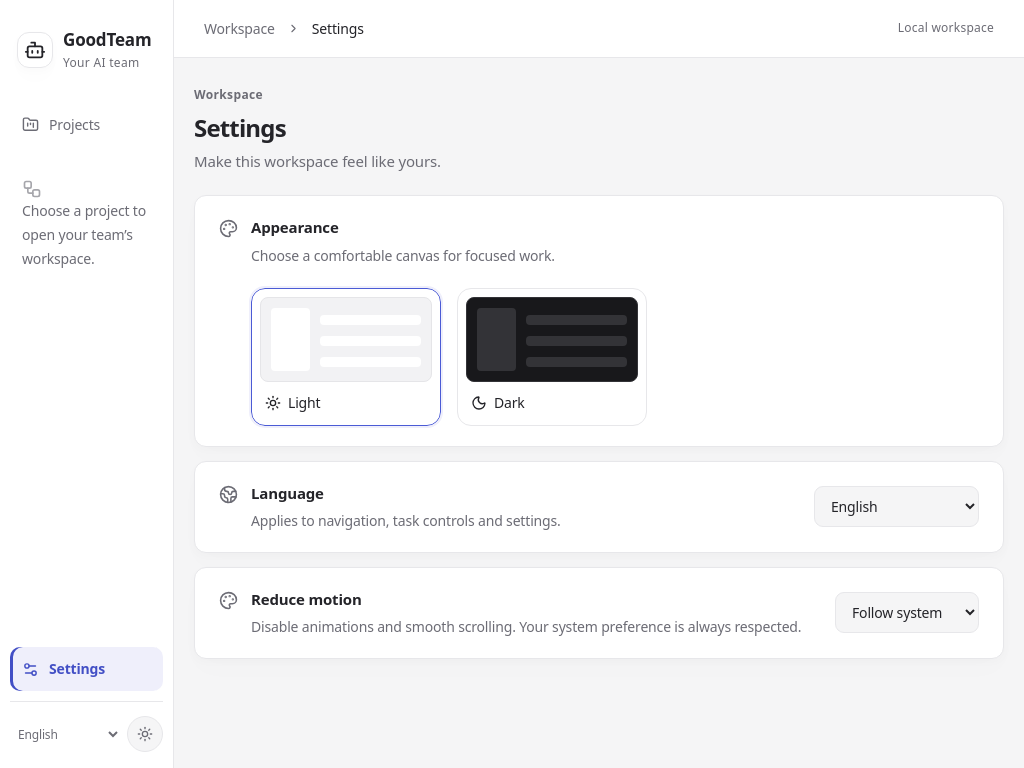
Test case: settings is a real destination and shares appearance and language preferences with the shell
This screenshot has width=1024, height=768.
Expected: the heading "Settings" is shown, [194,111,286,144]
Step 1. Click the button "Dark" → (552, 357), box [457,288,647,426]
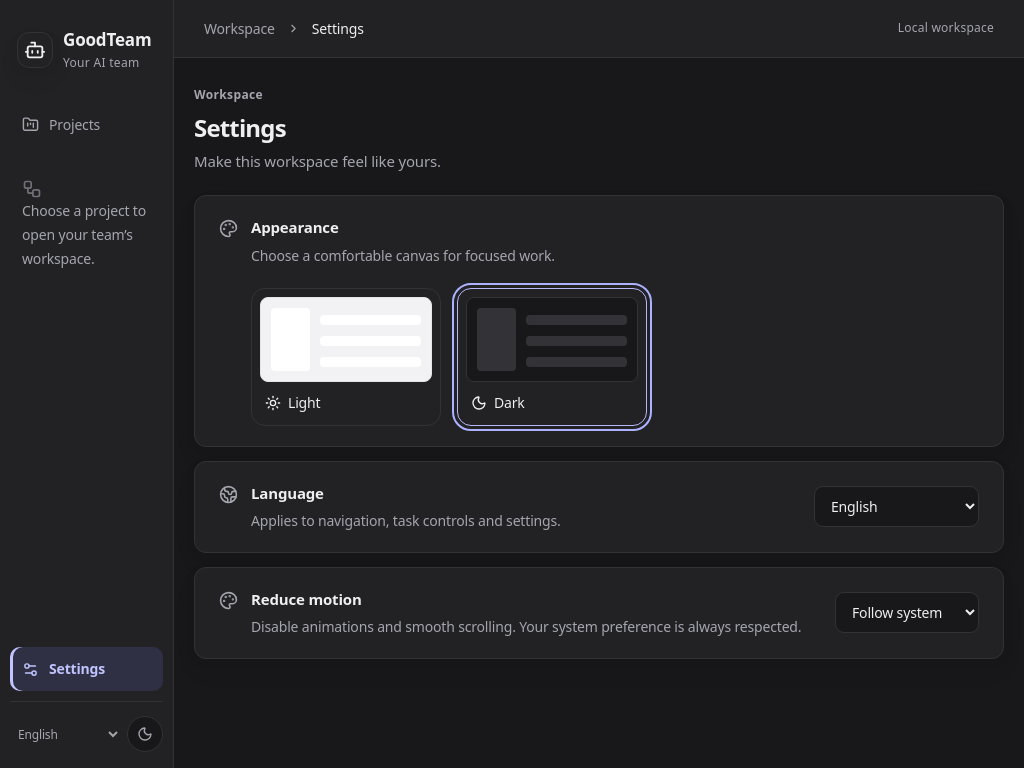
Step 2. Select "Simplified Chinese" in the dropdown labelled "Language" → (896, 507), box [814,486,979,527]
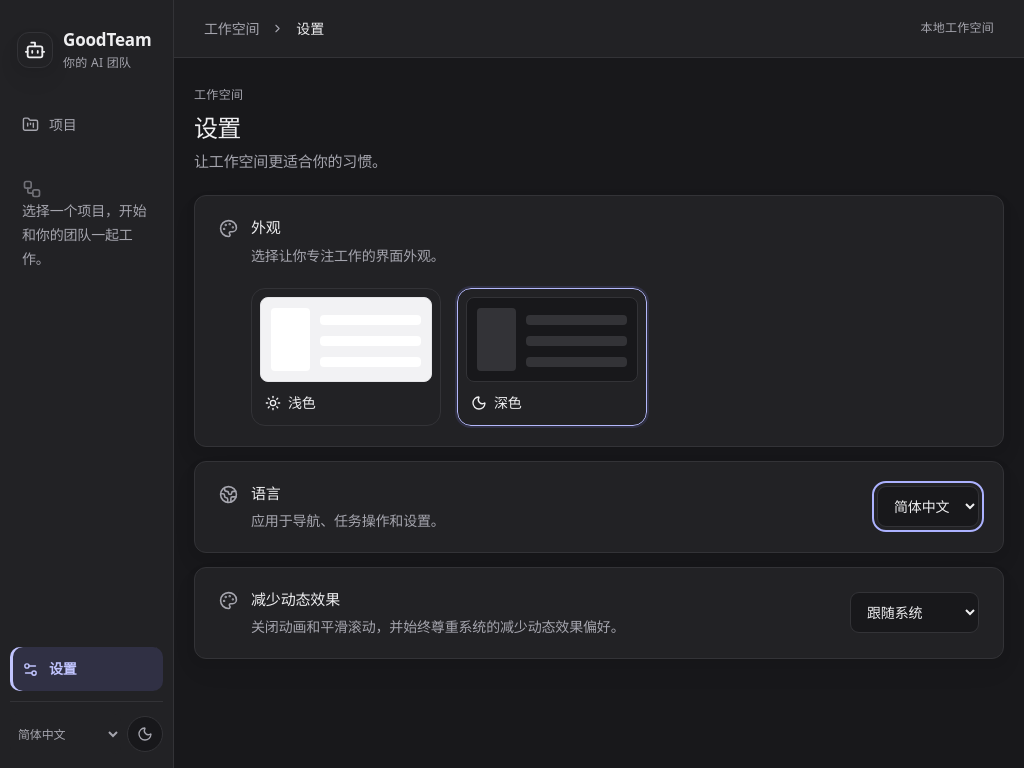
Now the heading "设置" is shown, box [194,111,240,144]
